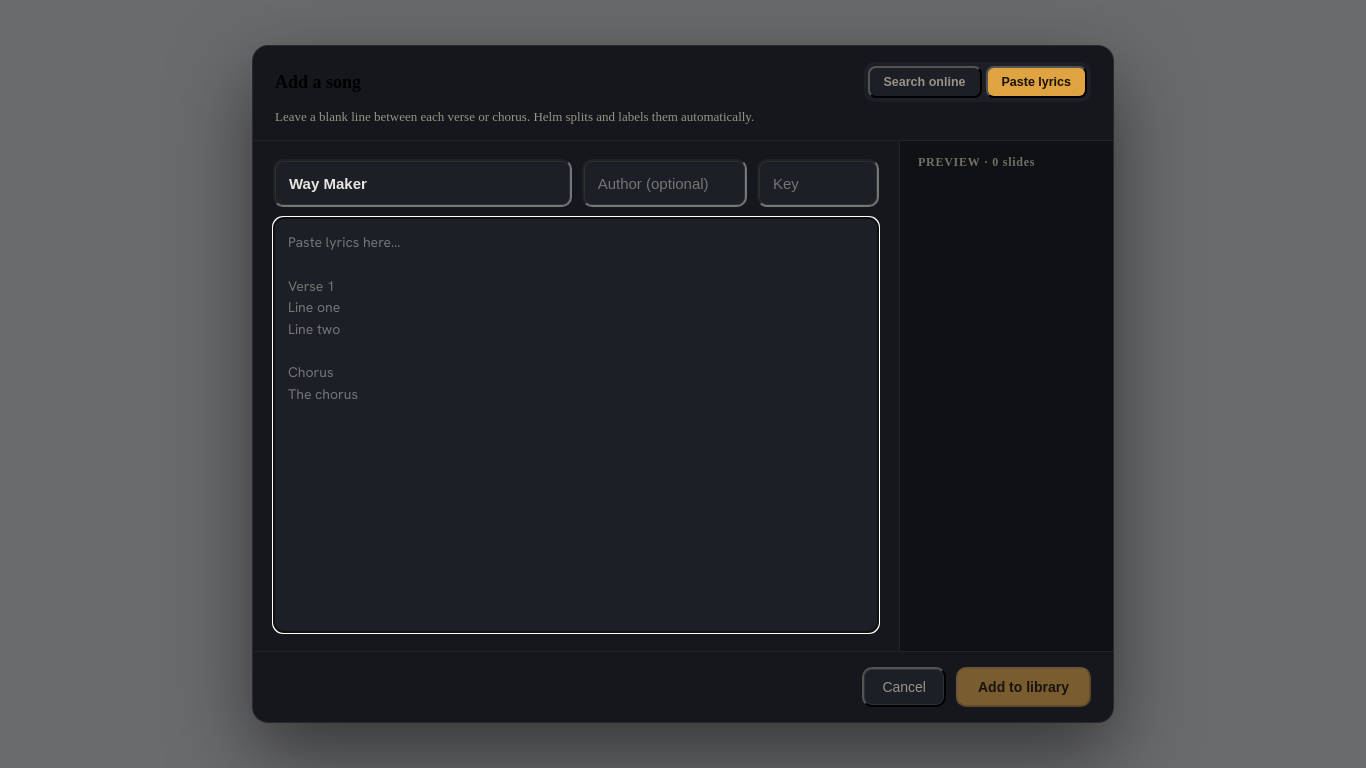
Scenario: QuickAdd Search online tab › runs the search eagerly when opening the tab with a prefilled title
Click the button "Search online" at (924, 82), box x1=868 y1=66 x2=982 y2=98
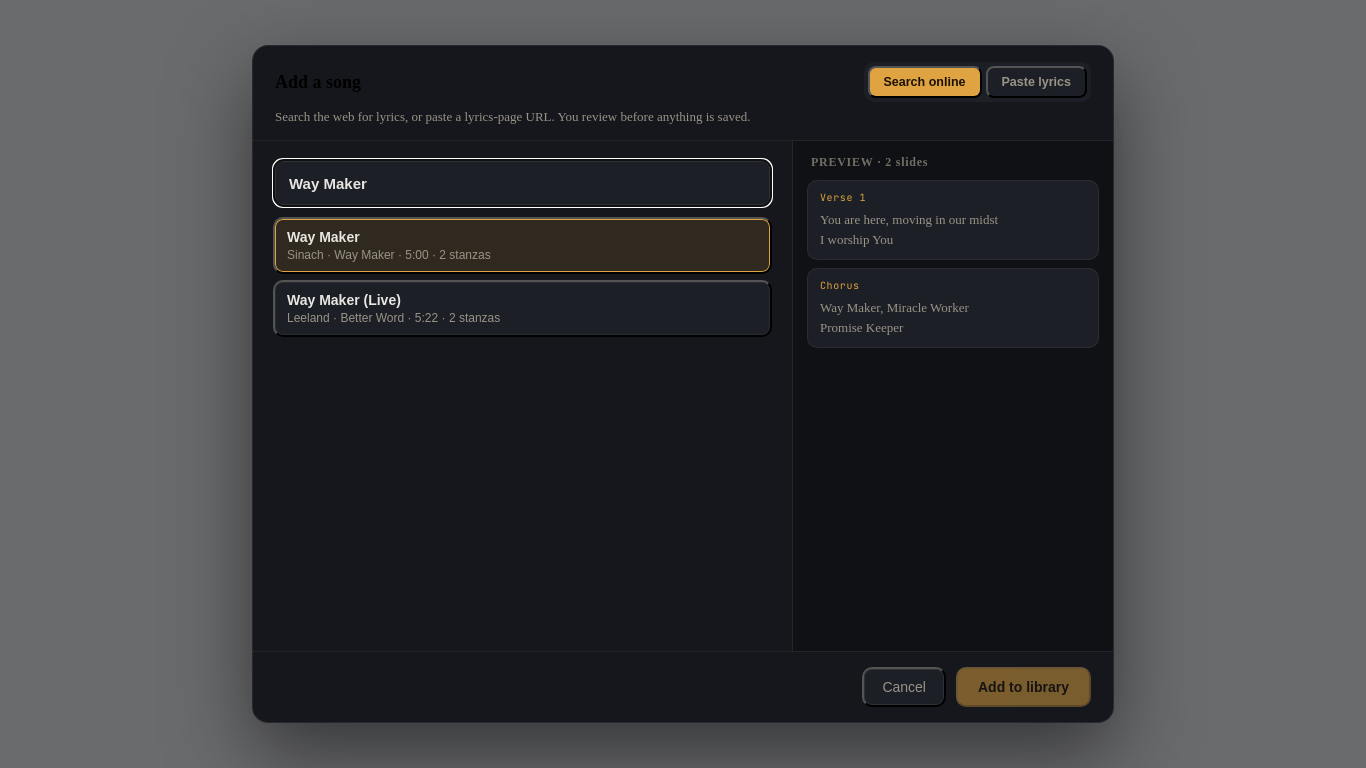
Result: the text "Way Maker (Live)" is shown at x1=287 y1=292 x2=401 y2=308
Result: the text "Way Maker" is shown at x1=287 y1=229 x2=360 y2=245
